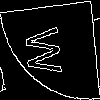W: (24, 25, 70, 77)
